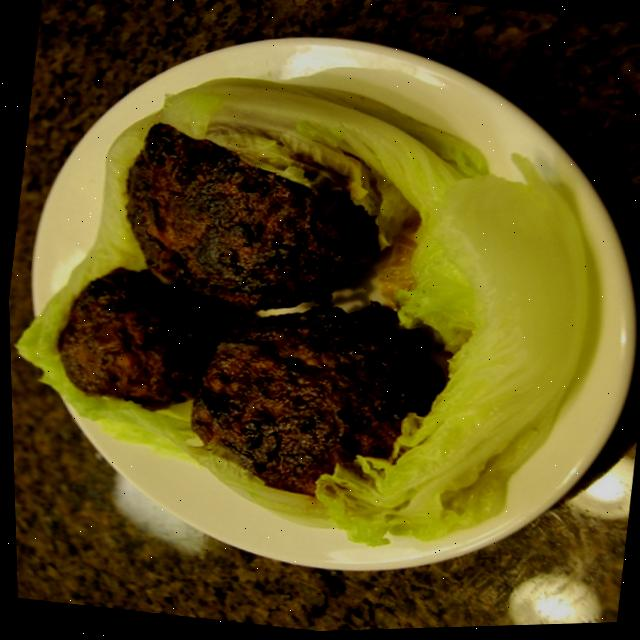猪肉菜式: (1, 26, 640, 601)
